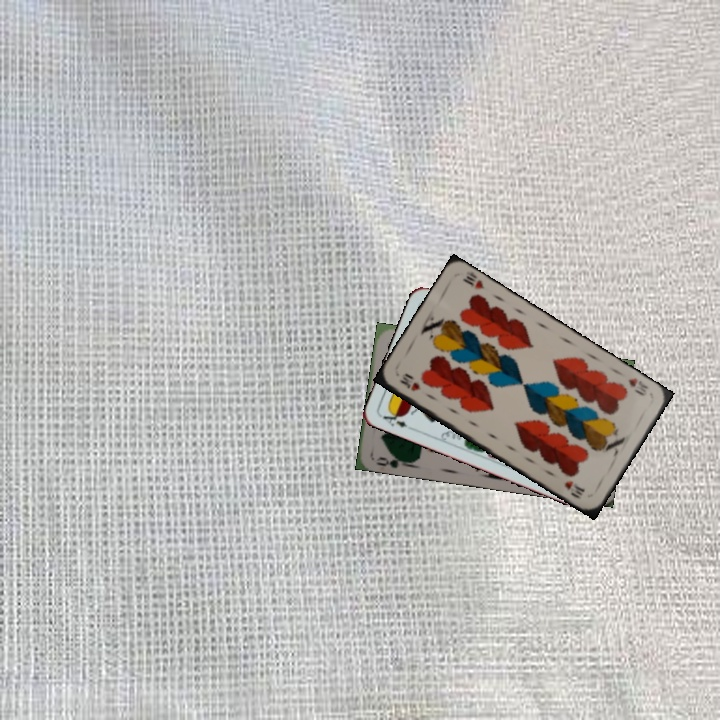EA: (379, 405, 410, 430)
GO: (372, 449, 412, 470)
H10: (624, 373, 650, 398), (396, 370, 423, 394)
